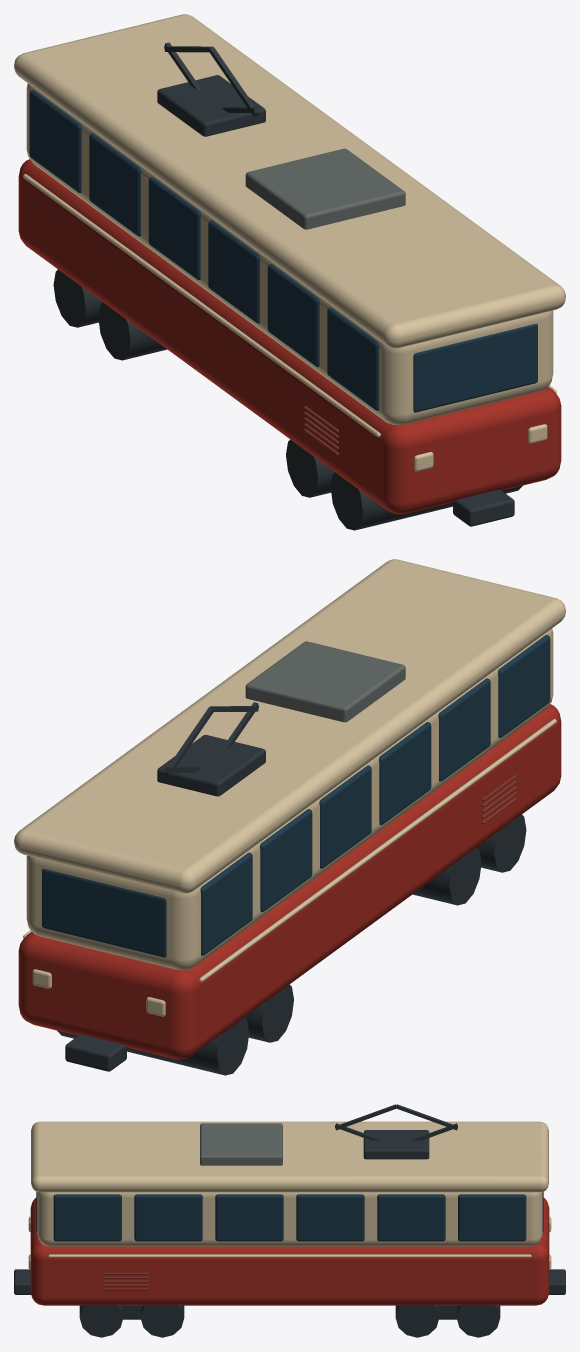
The model's file is ridge-railcar.glb.
The picture shows the model from 3 angles, top to bottom: view 1: azimuth 30°, elevation 25°; view 2: azimuth 150°, elevation 25°; view 3: azimuth 270°, elevation 25°; orthographic projection. The views are drawn at different scales.
Visible parts, largest first — view 1: RidgeRailcar; view 2: RidgeRailcar; view 3: RidgeRailcar.
Boxes of the visible parts, left/top/right/bottom form: RidgeRailcar: left=14, top=14, right=565, bottom=530; RidgeRailcar: left=14, top=559, right=565, bottom=1075; RidgeRailcar: left=14, top=1104, right=565, bottom=1337.
Bounding box in the file's own units: 1.49 × 2.38 × 5.8.
